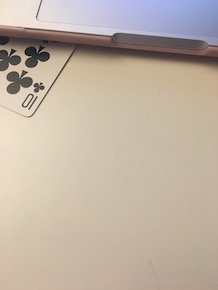TenOfClubs: (1, 22, 81, 122)
